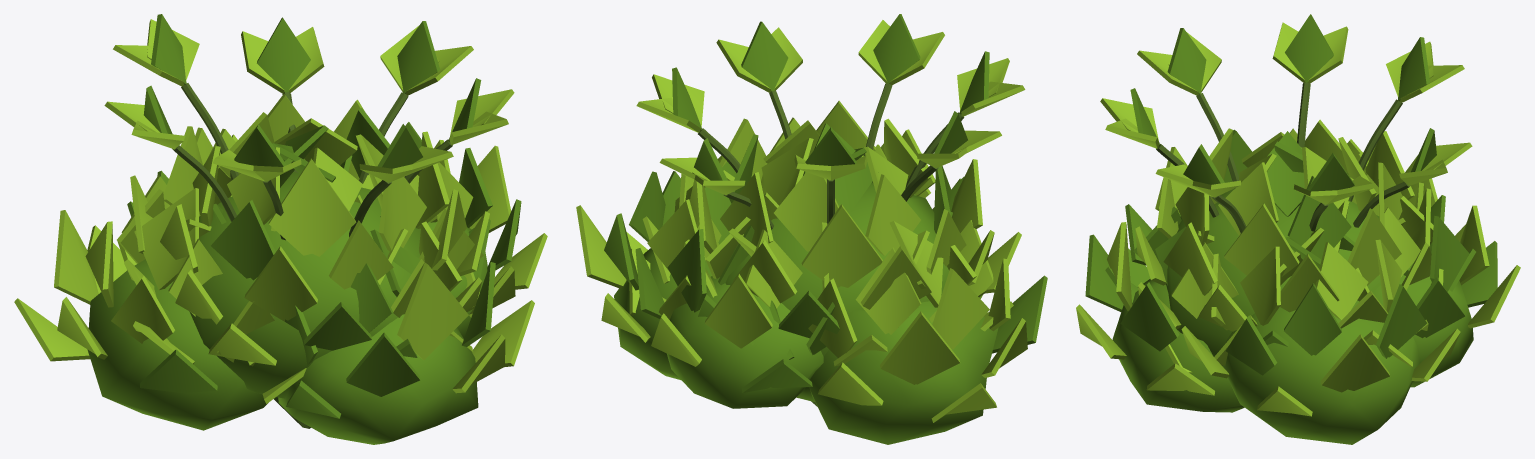
File: bush.glb
3 views of the same model, side by side, from view 1: azimuth 30°, elevation 25°; view 2: azimuth 150°, elevation 25°; view 3: azimuth 270°, elevation 25° (orthographic). The views are drawn at different scales.
Visible parts, largest first — view 1: Body; view 2: Body; view 3: Body.
Part boxes in pixels (left/top/right/bottom): Body: left=14, top=14, right=547, bottom=444; Body: left=576, top=14, right=1047, bottom=444; Body: left=1076, top=14, right=1520, bottom=444.
Size of the model in its own units: 0.9727 by 0.7583 by 0.8937.
